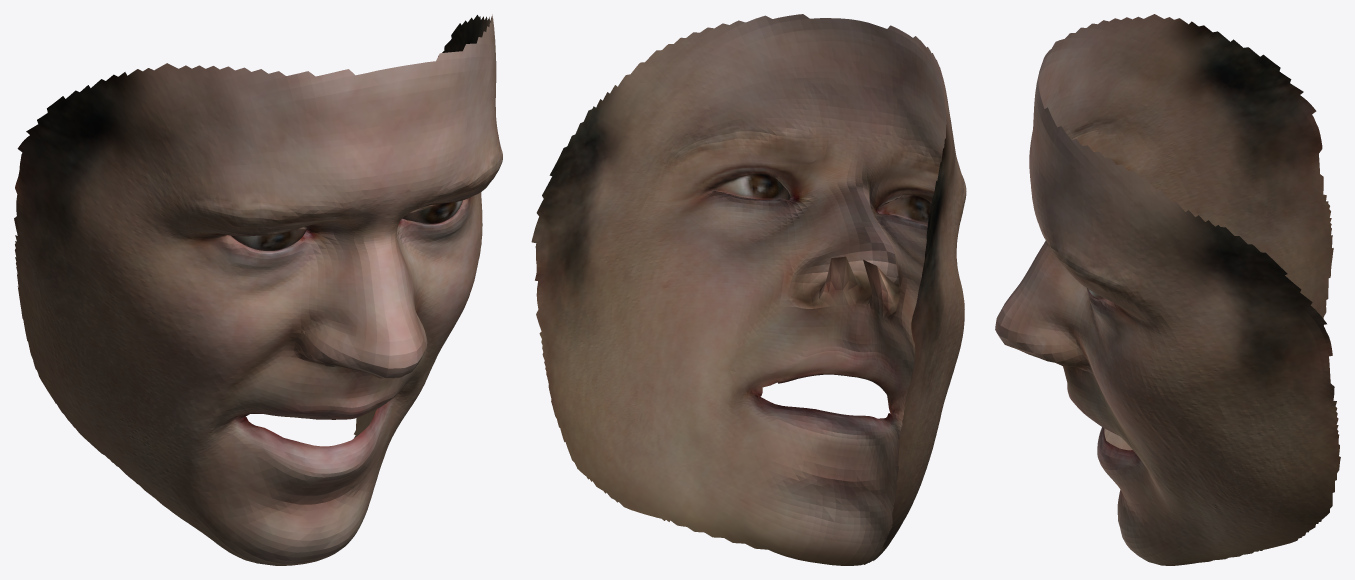
Rendered from angry1_mesh.obj.
3 views of the same model, side by side, from view 1: azimuth 30°, elevation 25°; view 2: azimuth 150°, elevation 25°; view 3: azimuth 270°, elevation 25° (orthographic). The views are drawn at different scales.
Bounding box in the file's own units: 1.39 × 1.72 × 1.1.
